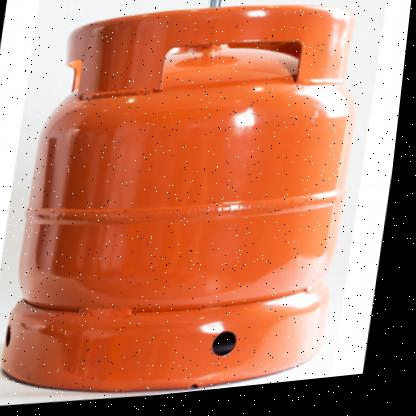gas-tank: (0, 0, 400, 413)
